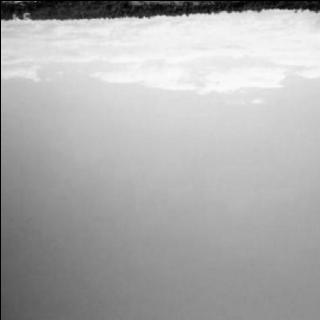Stratocumulus: (0, 19, 320, 108)
